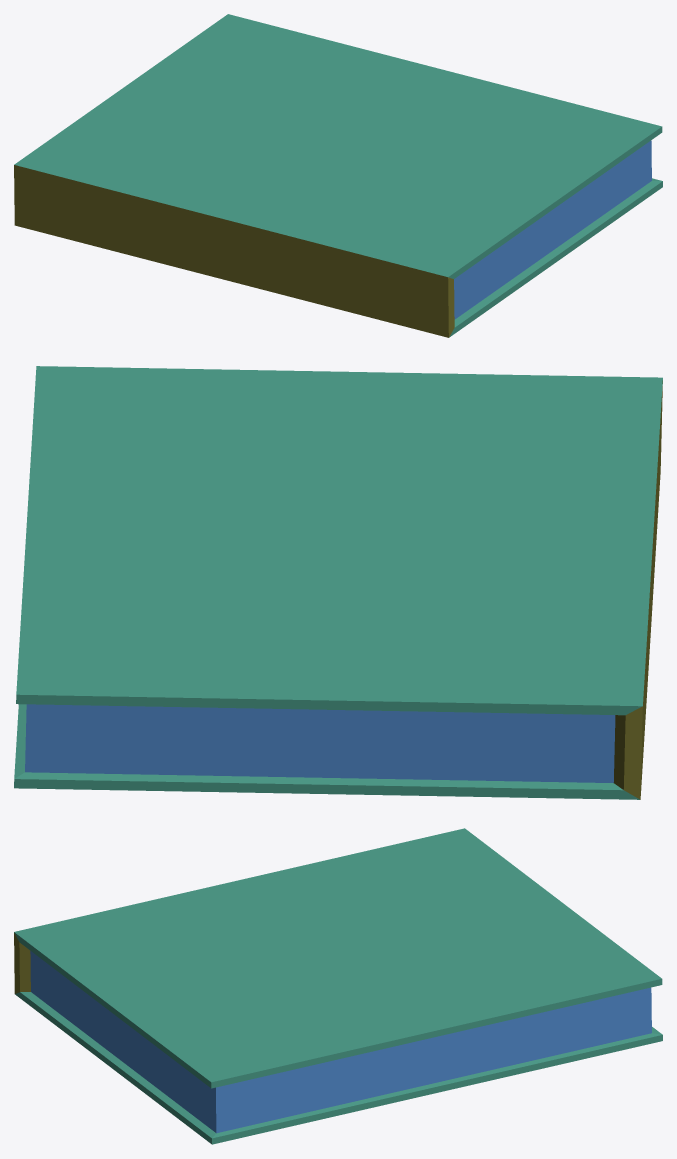
Rendered from Childrens_Room_Book_2.fbx.
The picture shows the model from 3 angles, top to bottom: view 1: azimuth 30°, elevation 25°; view 2: azimuth 150°, elevation 25°; view 3: azimuth 270°, elevation 25°; orthographic projection. The views are drawn at different scales.
Visible parts, largest first — view 1: Childrens_Room_Book_2; view 2: Childrens_Room_Book_2; view 3: Childrens_Room_Book_2.
Part boxes in pixels (bbox=[...]): Childrens_Room_Book_2: bbox=[14, 14, 662, 337]; Childrens_Room_Book_2: bbox=[14, 366, 662, 799]; Childrens_Room_Book_2: bbox=[14, 828, 662, 1144].
Bounding box in the file's own units: 47.85 × 5.62 × 50.95.
